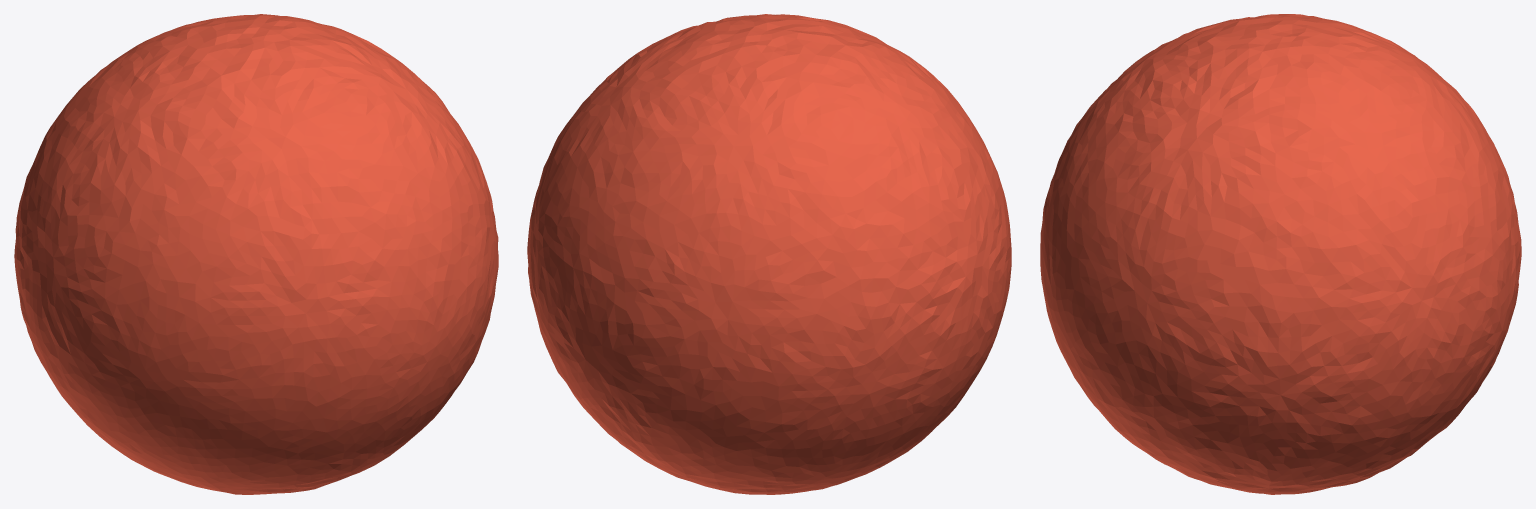
File: Mars.gltf
The picture shows the model from 3 angles, left to right: view 1: azimuth 30°, elevation 25°; view 2: azimuth 150°, elevation 25°; view 3: azimuth 270°, elevation 25°; orthographic projection.
Visible parts, largest first — view 1: Icosphere; view 2: Icosphere; view 3: Icosphere.
Part boxes in pixels (box(x1,y1,x2,y2)): Icosphere: box(14, 14, 498, 494); Icosphere: box(527, 14, 1011, 494); Icosphere: box(1040, 14, 1521, 494).
Size of the model in its own units: 6.51 by 6.47 by 6.5.
